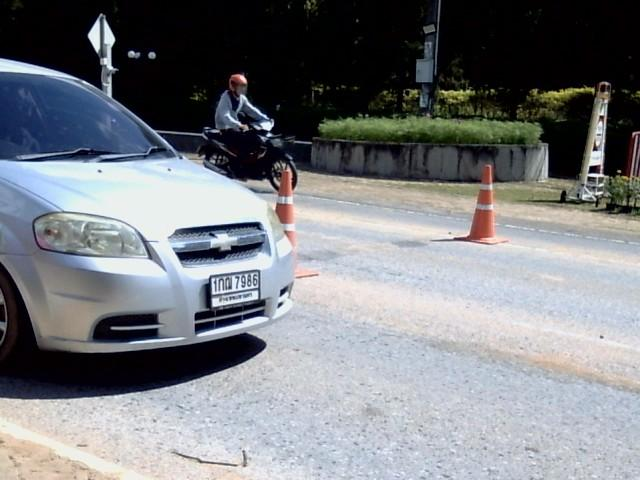helmet: (228, 69, 245, 94)
motor: (235, 121, 297, 191), (197, 127, 238, 178)
person: (215, 74, 268, 156)
